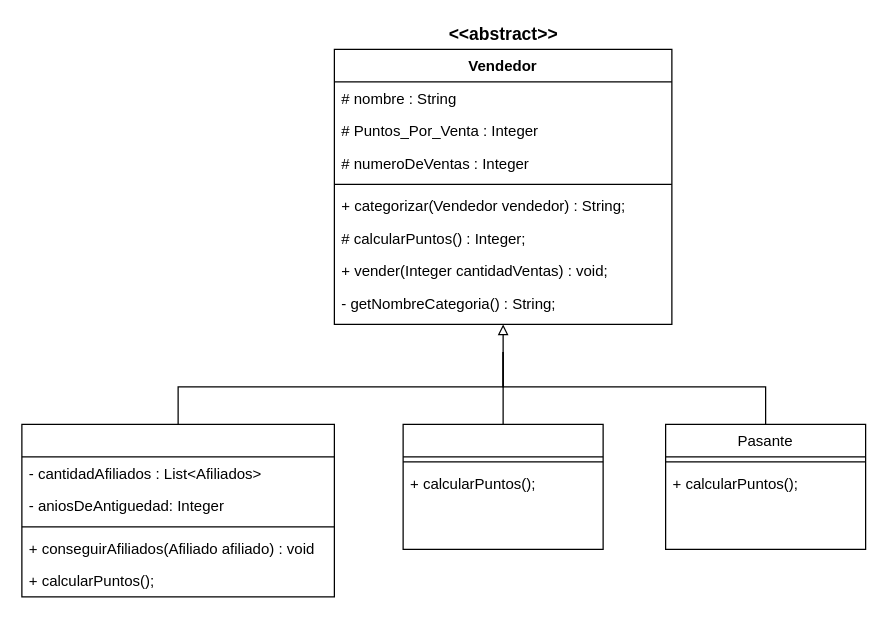
Some shapes in this 888 by 621 pixel diagram are drawn without their labels. The box of each missing label's shape, as (x1, y1, x2, y2) in pixels:
Afiliado: (402, 423, 603, 549)
Empleado: (21, 423, 334, 597)
